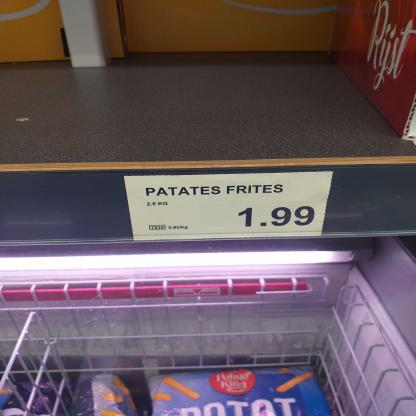prtg: (124, 172, 333, 241)
